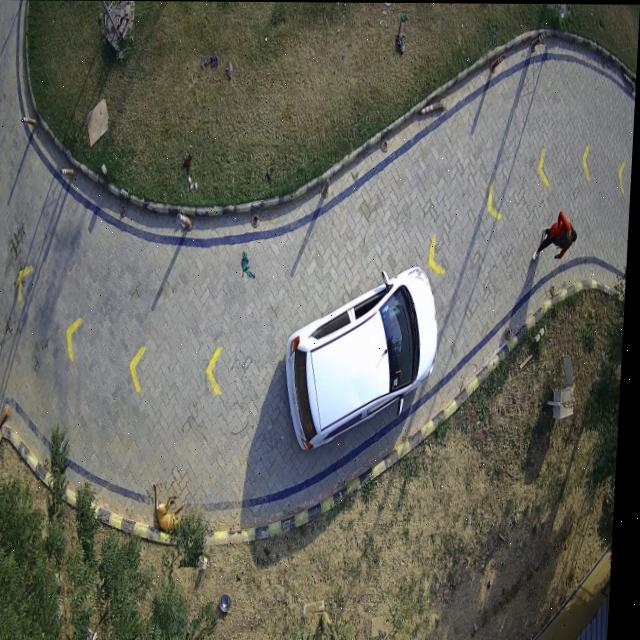car: (290, 265, 442, 450)
